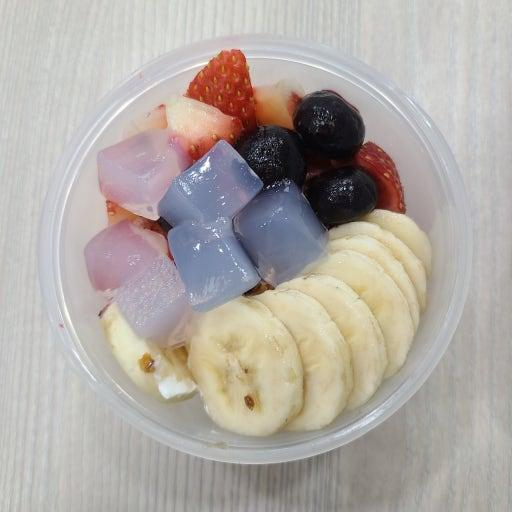Lunch Box: (39, 36, 471, 463)
